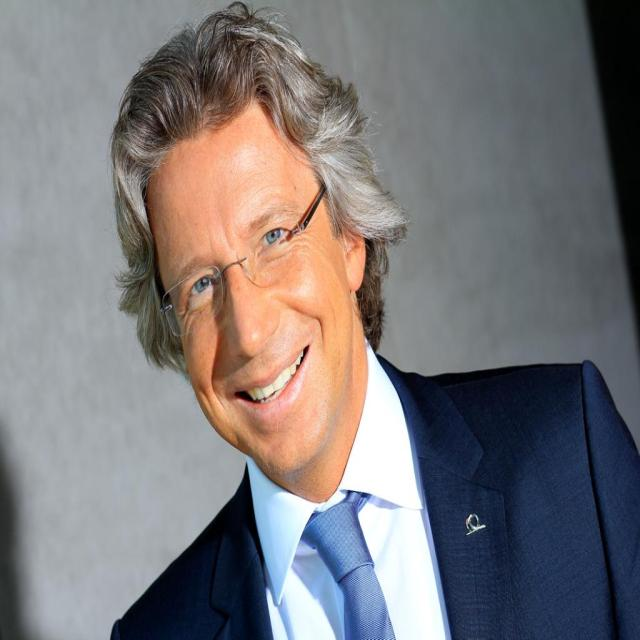Face: (135, 103, 370, 493)
